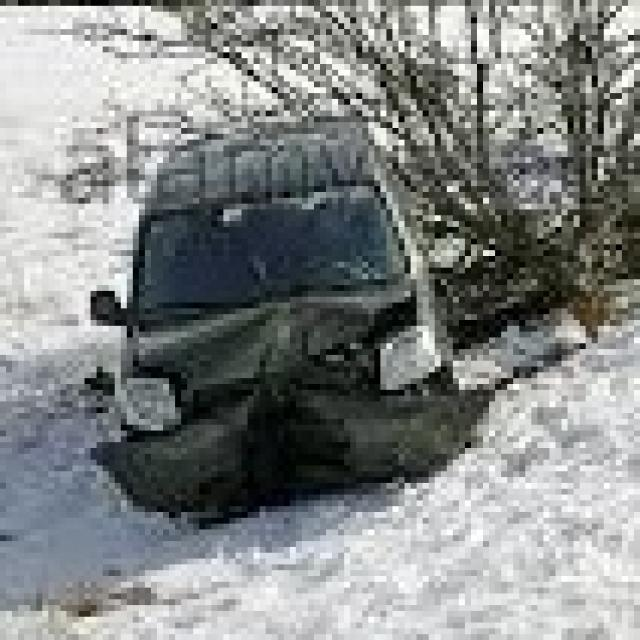minor: (82, 172, 489, 514)
